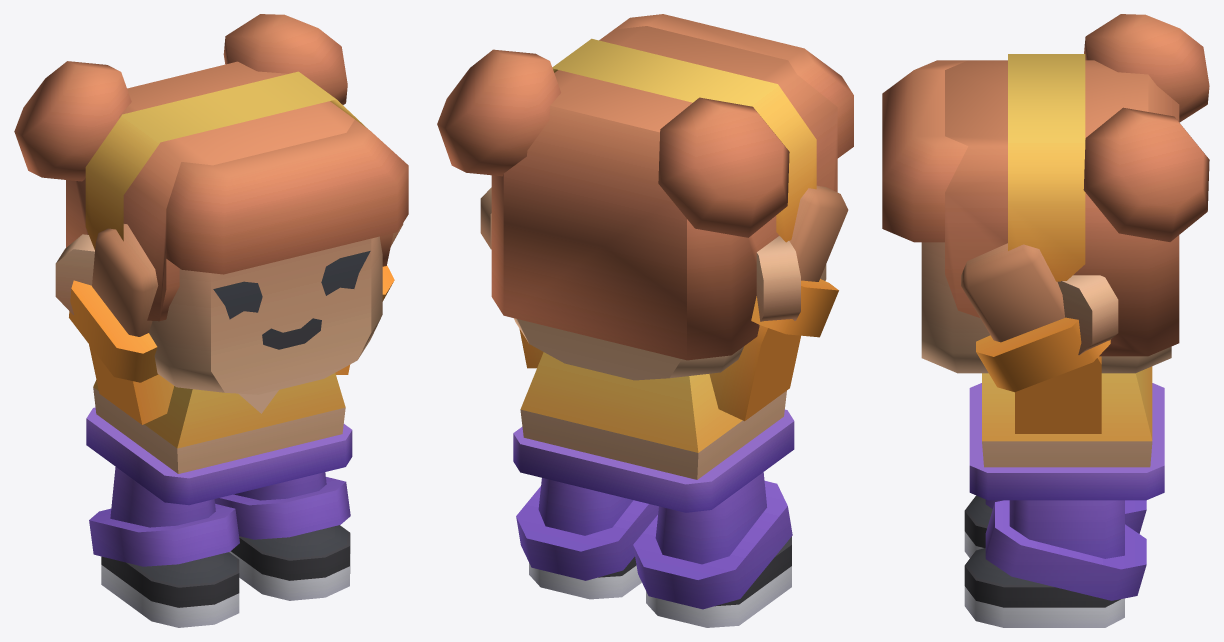
Rendered from people-female-b-idle.glb.
3 views of the same model, side by side, from view 1: azimuth 30°, elevation 25°; view 2: azimuth 150°, elevation 25°; view 3: azimuth 270°, elevation 25° (orthographic). The views are drawn at different scales.
Parts seen in each view (by area): view 1: character-female-b-idle; view 2: character-female-b-idle; view 3: character-female-b-idle.
Part boxes in pixels (x1,y1,x2,y2): character-female-b-idle: (14, 14, 408, 627); character-female-b-idle: (437, 14, 853, 627); character-female-b-idle: (882, 14, 1209, 627).
Bounding box in the file's own units: 0.475 × 0.7234 × 0.4185.
Materials: 1 (1 with a texture image).
